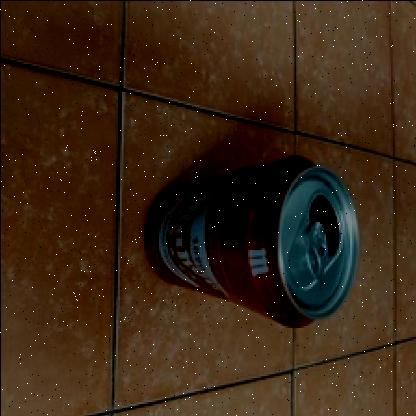Can: (127, 115, 384, 340)
